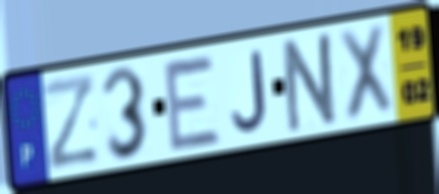3: (100, 63, 150, 163)
E: (160, 52, 224, 155)
J: (229, 47, 270, 136)
N: (281, 27, 341, 136)
X: (336, 19, 396, 126)
Z: (40, 70, 102, 175)
